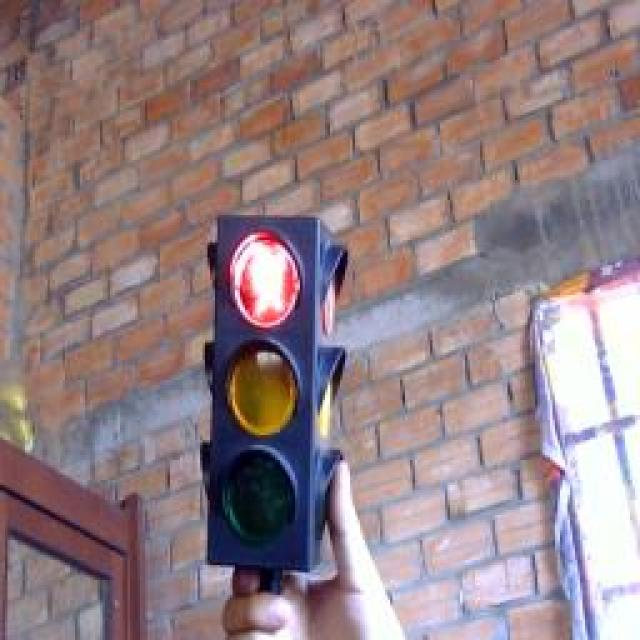-: (224, 228, 314, 336)
